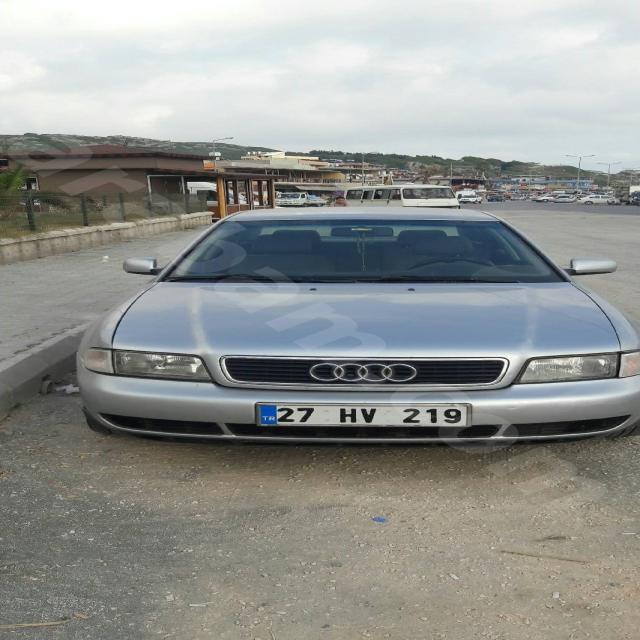license_plate: (257, 404, 468, 426)
